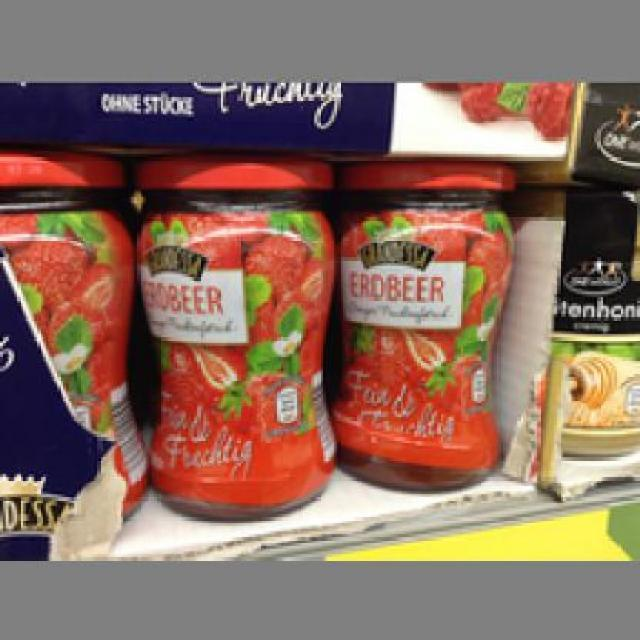Jam: (134, 152, 337, 518), (332, 160, 518, 489), (0, 148, 143, 514)
